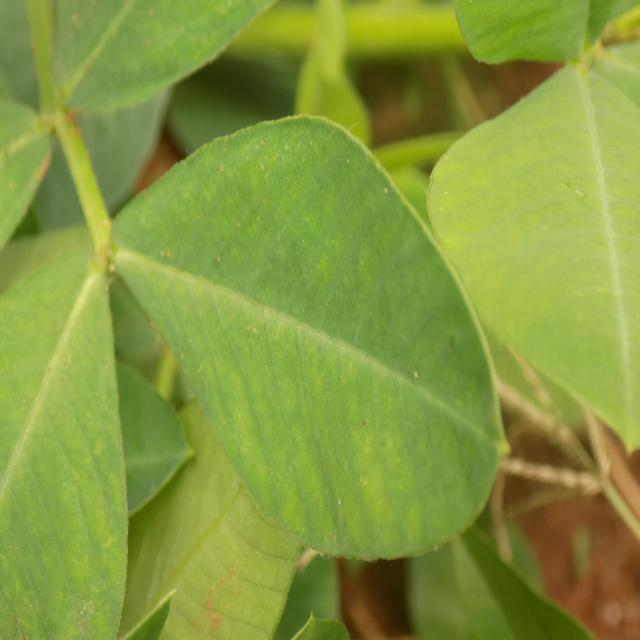Ground nut_healthy: (105, 110, 505, 560)
